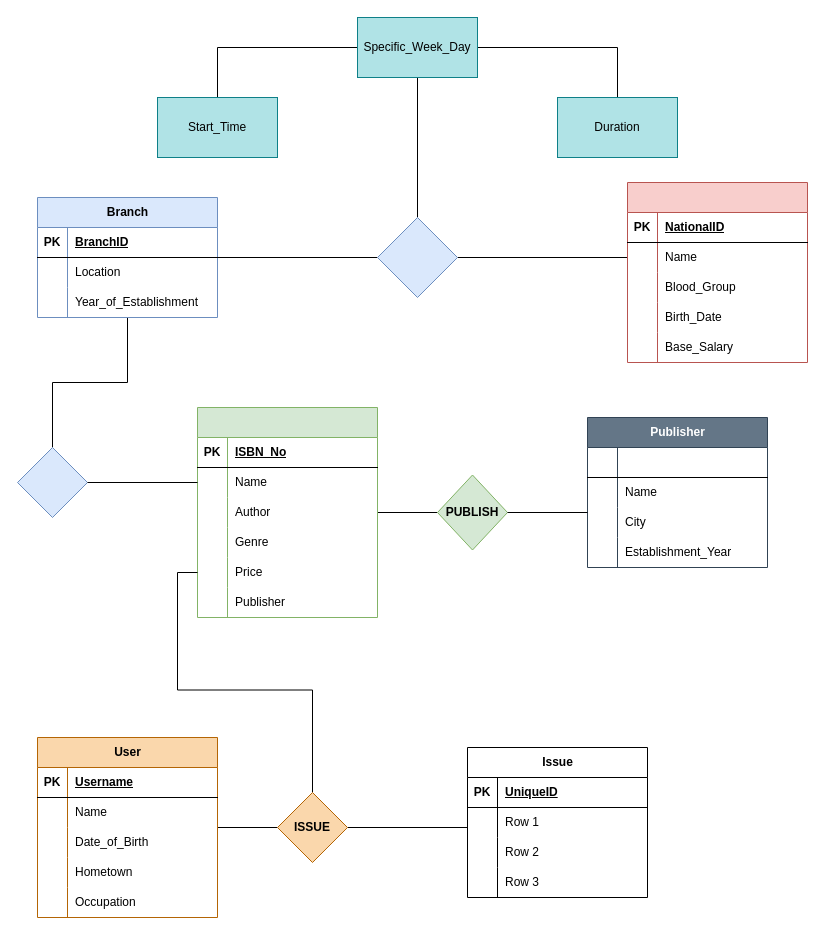
This 825x935 diagram has some shape labels left out. The box of each missing label's shape, as (x1, y1, x2, y2) in pixels:
Book: (196, 406, 378, 618)
Employee: (626, 182, 808, 362)
HAS: (16, 446, 88, 518)
WORK: (376, 216, 458, 298)
